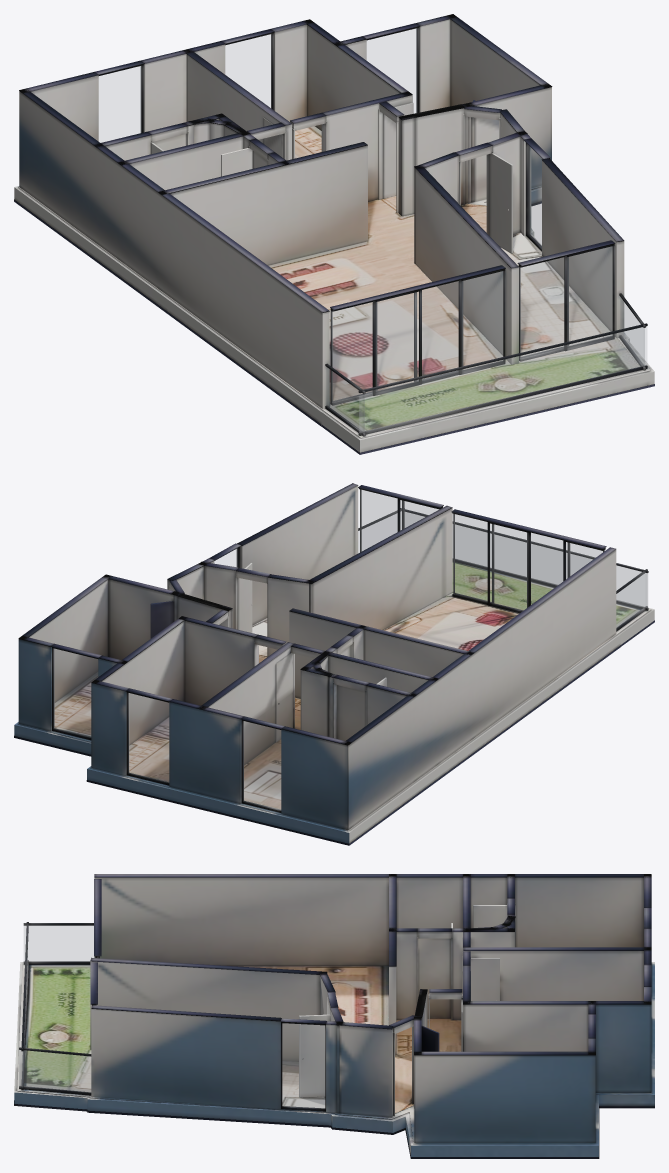
The picture shows the model from 3 angles, top to bottom: view 1: azimuth 30°, elevation 25°; view 2: azimuth 150°, elevation 25°; view 3: azimuth 270°, elevation 25°; orthographic projection. The views are drawn at different scales.
Visible parts, largest first — view 1: plan, glass4_m, railg1_m, glass5_m, glass0_m, glass1_m, glass2_m, railg2_m, glass3_m, railg0_m; view 2: plan, glass4_m, railg1_m, glass1_m, glass2_m, glass0_m, glass5_m, railg2_m, railg0_m; view 3: plan, glass3_m, railg0_m, railg2_m.
Boxes of the visible parts, box(x1,y1,x2,y2) form: plan: box(14, 14, 654, 454); glass4_m: box(332, 271, 502, 402); railg1_m: box(359, 326, 646, 432); glass5_m: box(520, 246, 612, 358); glass0_m: box(99, 66, 141, 142); glass1_m: box(225, 34, 271, 108); glass2_m: box(367, 28, 417, 113); railg2_m: box(326, 367, 364, 433); glass3_m: box(528, 145, 541, 247); railg0_m: box(620, 297, 644, 367); plan: box(14, 483, 654, 845); glass4_m: box(453, 514, 602, 610); railg1_m: box(405, 512, 647, 607); glass1_m: box(128, 693, 168, 782); glass2_m: box(54, 649, 97, 737); glass0_m: box(243, 721, 280, 809); glass5_m: box(360, 489, 438, 551); railg2_m: box(616, 573, 646, 627); railg0_m: box(358, 512, 401, 552); plan: box(14, 874, 654, 1158); glass3_m: box(282, 1023, 324, 1108); railg0_m: box(19, 1050, 90, 1092); railg2_m: box(24, 926, 93, 961).
Size of the model in its own units: 10.06 by 2.62 by 14.83.
2 materials, 1 textured.
